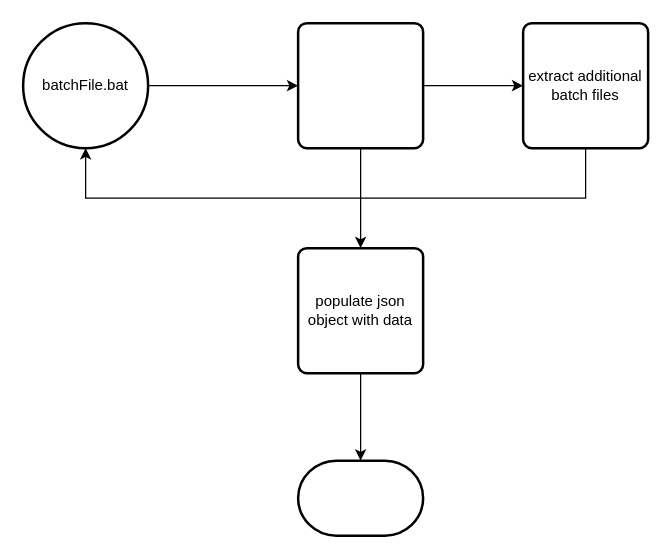
Some shapes in this 670 by 558 pixel diagram are drawn without their labels. Each missing label, with the centre of its shape:
extract vars: (x=360, y=85)
jsonObject: (x=360, y=497)
